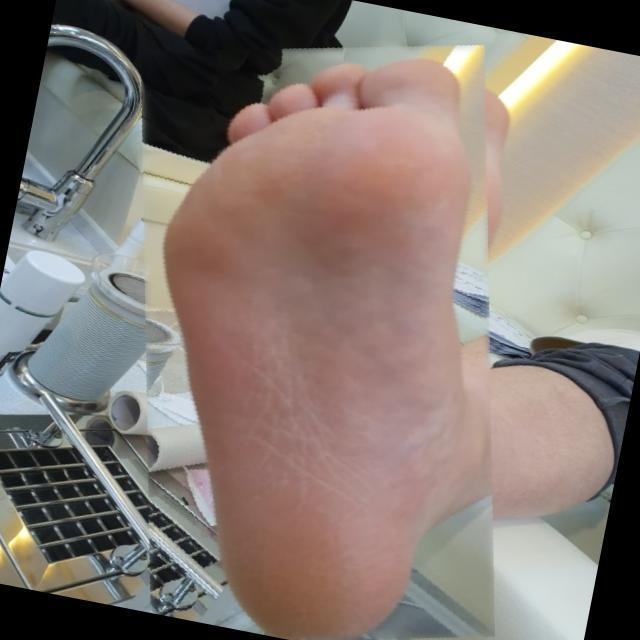No_Shoes: (148, 67, 502, 640)
